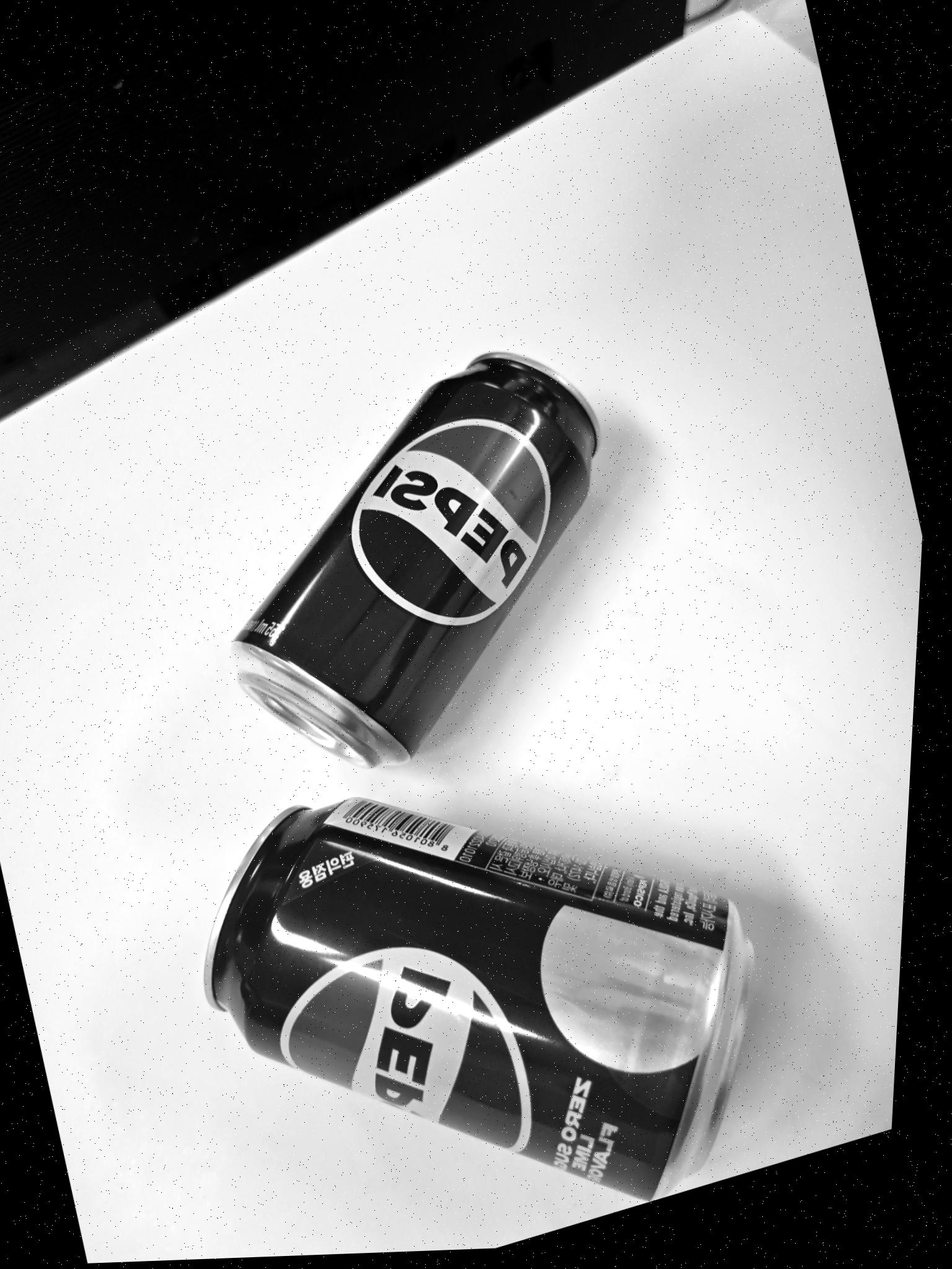can_pepsi: (239, 350, 604, 763)
can_pepsi_zero: (208, 797, 748, 1191)
